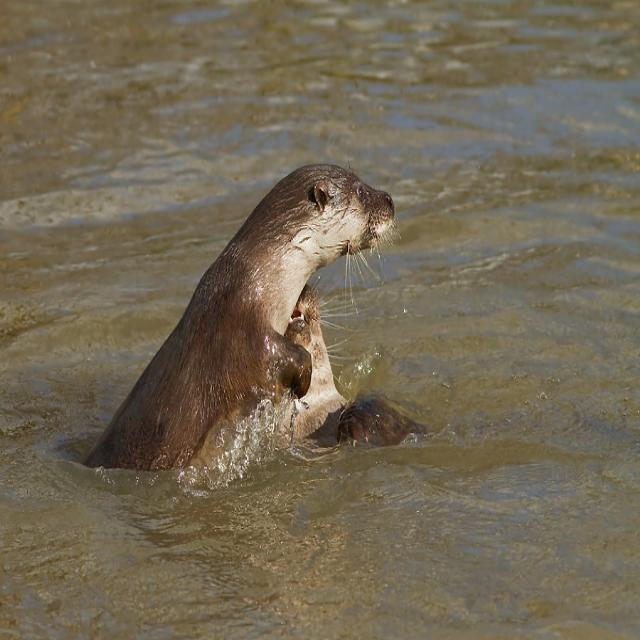otter: (91, 162, 396, 467)
